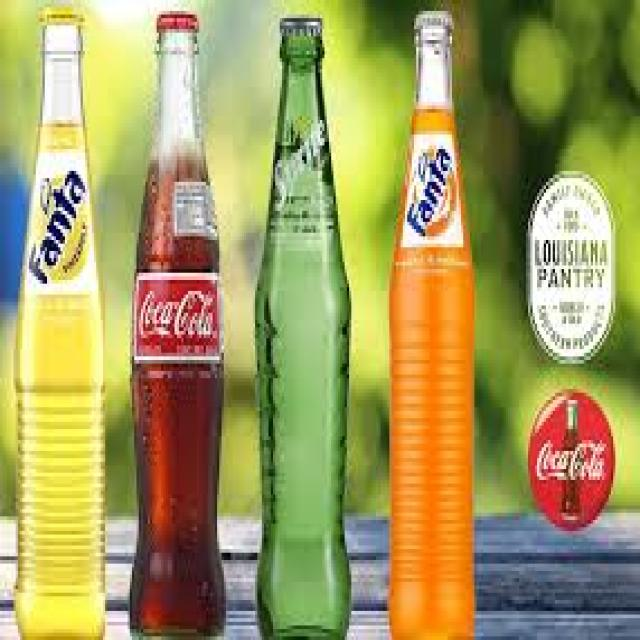Botella: (138, 6, 230, 640), (20, 1, 110, 638)
